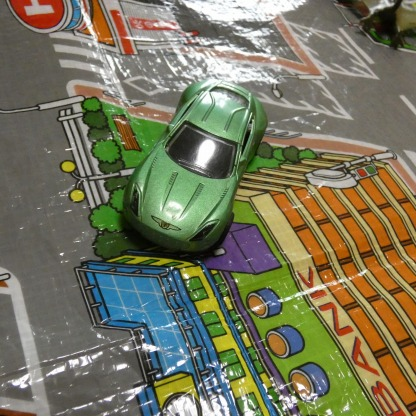car: (124, 79, 266, 250)
